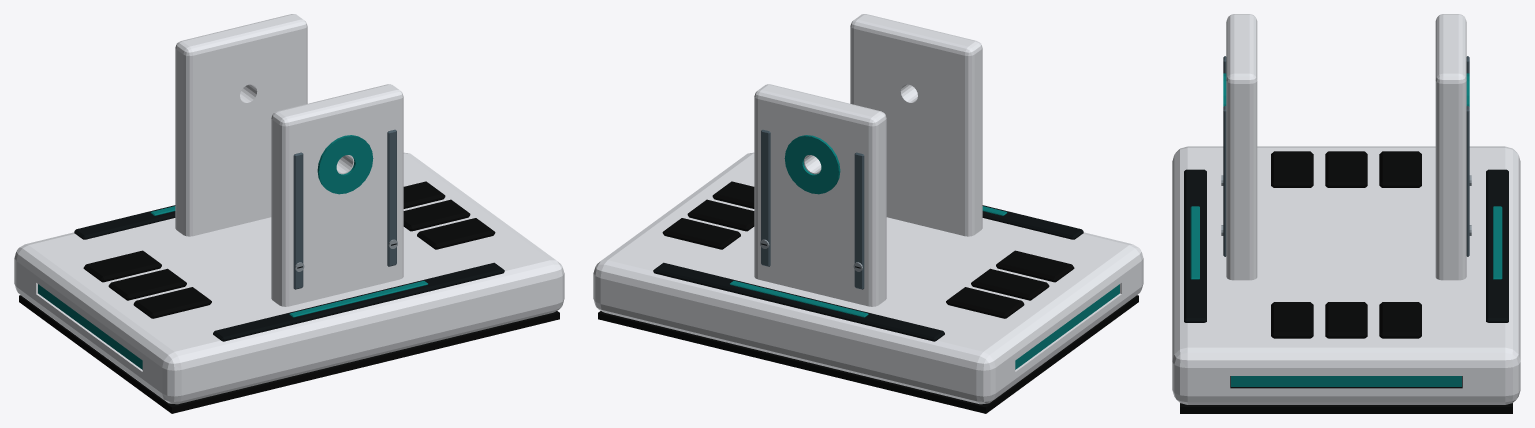
Rendered from foot.obj.
3 renders of one model, left to right at view 1: azimuth 30°, elevation 25°; view 2: azimuth 150°, elevation 25°; view 3: azimuth 270°, elevation 25°, orthographic. The views are drawn at different scales.
Parts seen in each view (by area): view 1: foot; view 2: foot; view 3: foot.
Boxes of the visible parts, x1,y1,x2,y2 form: foot: (14, 14, 564, 413); foot: (593, 14, 1143, 413); foot: (1172, 14, 1520, 413).
Size of the model in its own units: 0.065 by 0.038 by 0.045.
